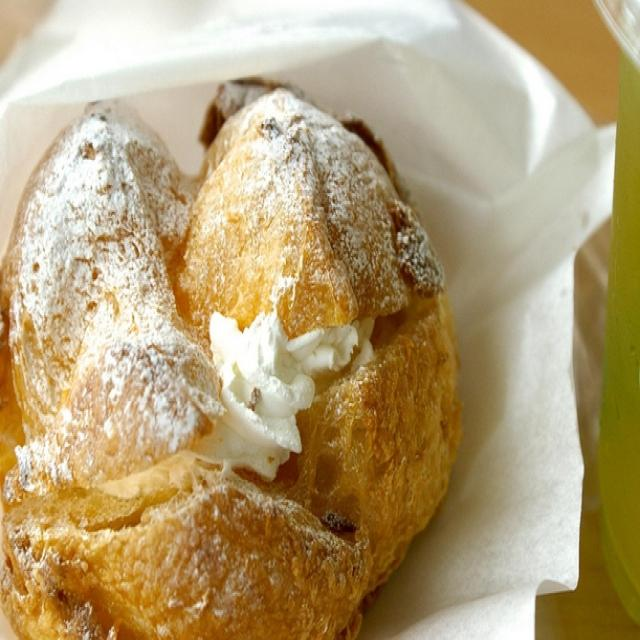炸货点心: (11, 74, 494, 634)
蛋糕甜品: (11, 74, 494, 634)
